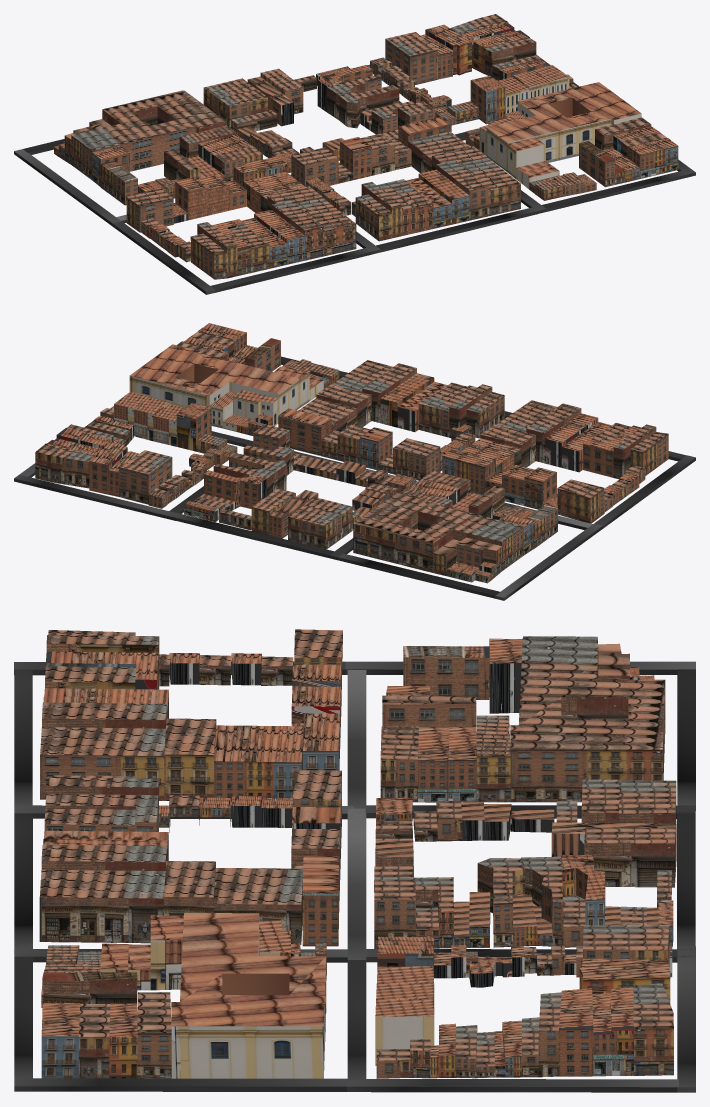
File: Teusaquillo_Entorno.fbx
The picture shows the model from 3 angles, top to bottom: view 1: azimuth 30°, elevation 25°; view 2: azimuth 150°, elevation 25°; view 3: azimuth 270°, elevation 25°; orthographic projection. The views are drawn at different scales.
Visible parts, largest first — view 1: map_2.osm_buildings.173, map_2.osm_buildings.115, map_2.osm_buildings.121, map_2.osm_buildings.041, map_2.osm_buildings.181, map_2.osm_buildings.178, map_2.osm_buildings.099, map_2.osm_buildings.023, map_2.osm_buildings.019, map_2.osm_buildings.042, map_2.osm_buildings.182, Cube.011 (+60 smaller); view 2: map_2.osm_buildings.173, map_2.osm_buildings.115, map_2.osm_buildings.121, map_2.osm_buildings.082, map_2.osm_buildings.142, map_2.osm_buildings.178, map_2.osm_buildings.026, map_2.osm_buildings.049, map_2.osm_buildings.019, map_2.osm_buildings.189, Cube.012, Cube.009 (+56 smaller); view 3: map_2.osm_buildings.115, map_2.osm_buildings.173, map_2.osm_buildings.041, map_2.osm_buildings.181, map_2.osm_buildings.190, map_2.osm_buildings.140, map_2.osm_buildings.050, Cube.016, Cube.007, map_2.osm_buildings.108, map_2.osm_buildings.204, map_2.osm_buildings.082 (+94 smaller).
Boxes of the visible parts, left/top/right/bottom form: map_2.osm_buildings.173: left=71, top=90, right=226, bottom=179; map_2.osm_buildings.115: left=486, top=82, right=641, bottom=172; map_2.osm_buildings.121: left=385, top=32, right=437, bottom=84; map_2.osm_buildings.041: left=460, top=157, right=520, bottom=215; map_2.osm_buildings.181: left=296, top=197, right=356, bottom=256; map_2.osm_buildings.178: left=126, top=187, right=173, bottom=232; map_2.osm_buildings.099: left=629, top=138, right=678, bottom=178; map_2.osm_buildings.023: left=339, top=85, right=399, bottom=128; map_2.osm_buildings.019: left=291, top=147, right=338, bottom=186; map_2.osm_buildings.042: left=436, top=160, right=488, bottom=220; map_2.osm_buildings.182: left=271, top=200, right=323, bottom=260; Cube.011: left=376, top=207, right=538, bottom=252; map_2.osm_buildings.173: left=353, top=492, right=523, bottom=572; map_2.osm_buildings.115: left=129, top=344, right=299, bottom=415; map_2.osm_buildings.121: left=119, top=450, right=172, bottom=504; map_2.osm_buildings.082: left=35, top=443, right=94, bottom=488; map_2.osm_buildings.142: left=288, top=505, right=341, bottom=549; map_2.osm_buildings.178: left=557, top=479, right=604, bottom=523; map_2.osm_buildings.026: left=204, top=470, right=266, bottom=508; map_2.osm_buildings.049: left=278, top=408, right=331, bottom=455; map_2.osm_buildings.019: left=393, top=438, right=440, bottom=480; map_2.osm_buildings.189: left=442, top=448, right=495, bottom=495; Cube.012: left=14, top=474, right=177, bottom=520; Cube.009: left=338, top=553, right=500, bottom=598; map_2.osm_buildings.115: left=171, top=913, right=326, bottom=1078; map_2.osm_buildings.173: left=510, top=636, right=665, bottom=802; map_2.osm_buildings.041: left=39, top=869, right=165, bottom=943; map_2.osm_buildings.181: left=40, top=727, right=165, bottom=800; map_2.osm_buildings.190: left=214, top=725, right=303, bottom=801; map_2.osm_buildings.140: left=584, top=827, right=675, bottom=887; map_2.osm_buildings.050: left=213, top=868, right=303, bottom=944; Cube.016: left=14, top=1078, right=347, bottom=1091; Cube.007: left=347, top=1079, right=678, bottom=1092; map_2.osm_buildings.108: left=403, top=646, right=489, bottom=699; map_2.osm_buildings.204: left=164, top=718, right=216, bottom=800; map_2.osm_buildings.082: left=633, top=983, right=673, bottom=1075.
Size of the model in its own units: 33741 by 2292 by 22869.
